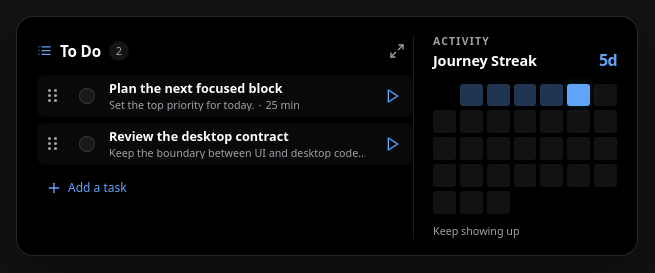
Scenario: App › reconciles a failed mutation without replacing the current snapshot
Click the checkbox named "Mark Plan the next focused block as complete" at (87,96), box [79, 88, 95, 104]
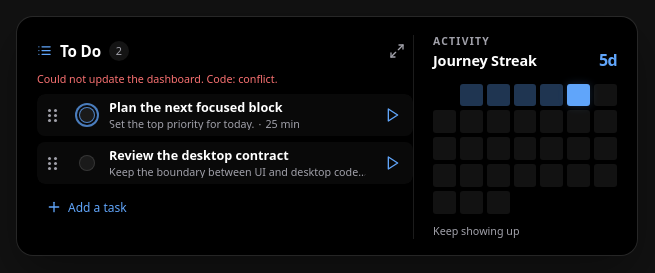
Expected: the message does not show "private task title", [37, 72, 278, 86]
Expected: the message shows "conflict", [238, 72, 275, 86]
